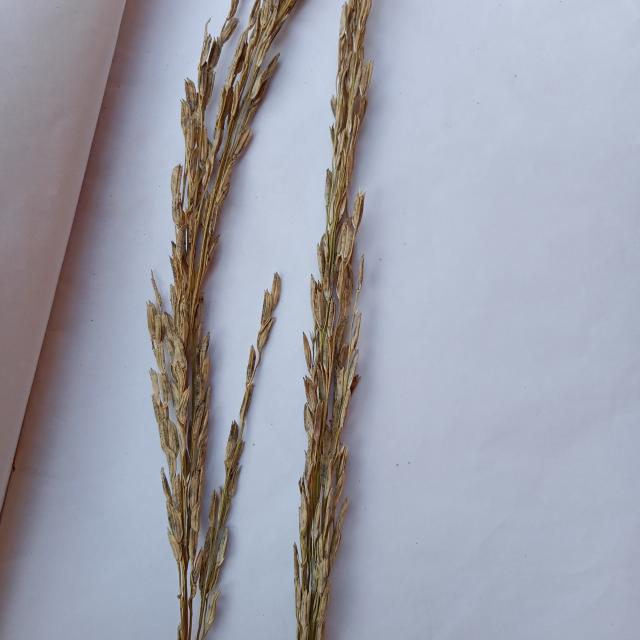Neck_Blast: (149, 0, 311, 640), (296, 0, 369, 639)
